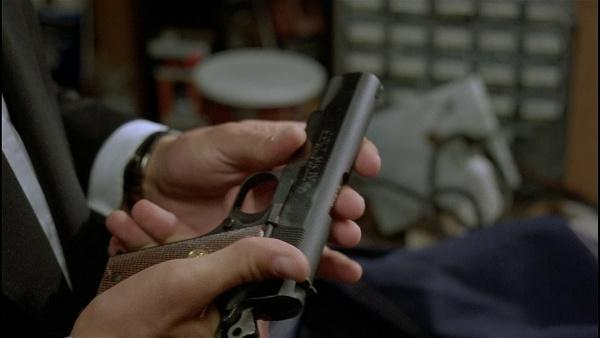Gun: (93, 70, 386, 322)
